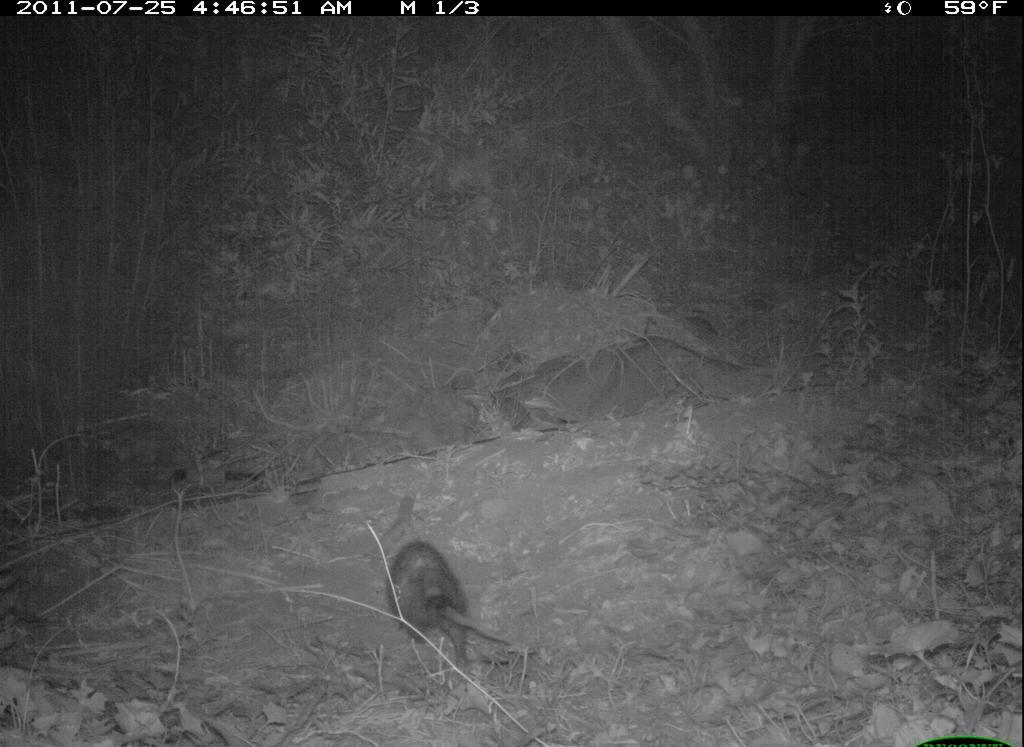opossum: (385, 534, 515, 664)
